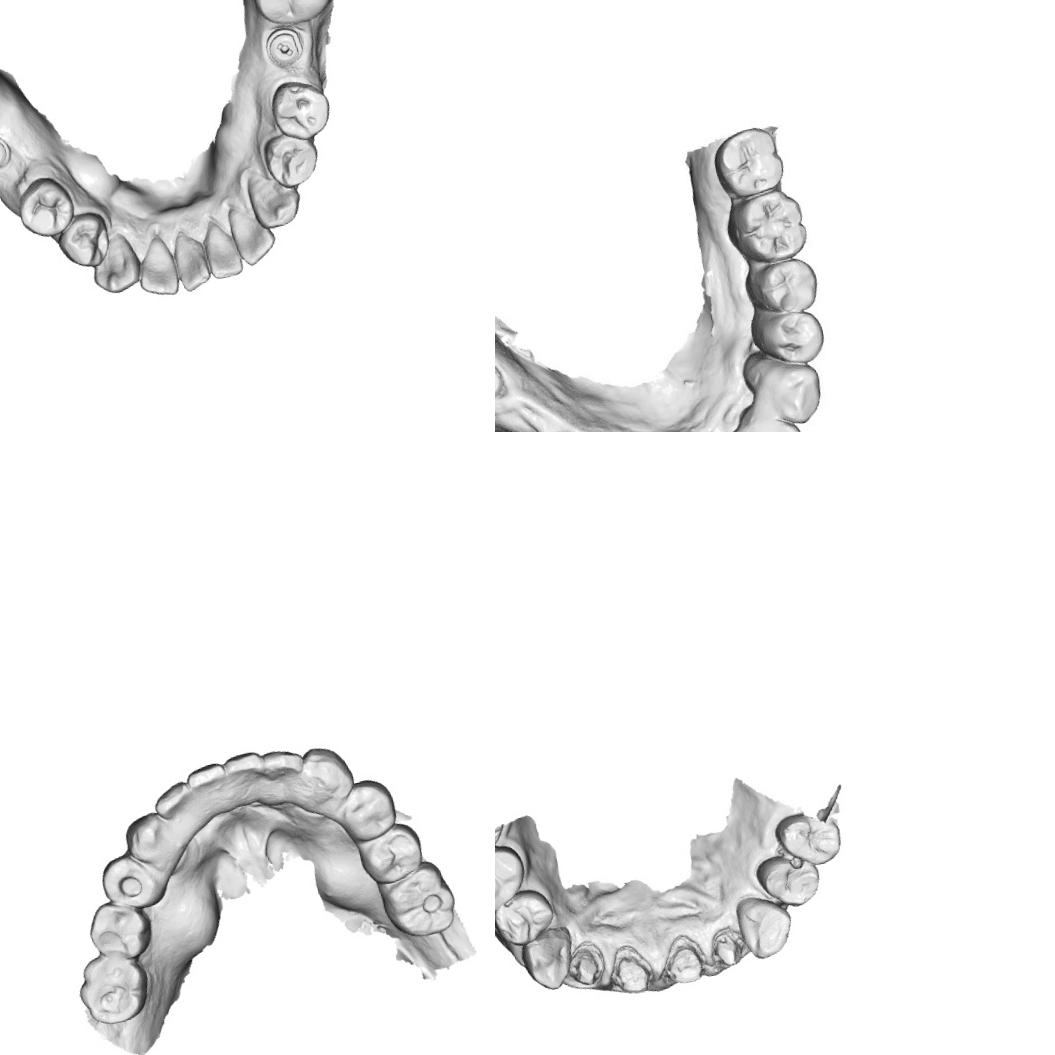canine: (752, 350, 829, 432), (732, 886, 800, 962), (516, 922, 581, 996), (243, 162, 306, 232), (84, 228, 144, 296), (298, 740, 358, 807), (119, 808, 173, 865)
crown: (657, 928, 711, 989), (603, 938, 656, 998), (561, 936, 609, 992), (706, 922, 749, 970)
implant: (0, 128, 15, 174), (495, 361, 509, 405)
implant_minus: (260, 22, 308, 72)
incisor: (224, 198, 280, 269), (130, 230, 182, 300), (166, 226, 214, 295), (197, 214, 246, 281), (184, 757, 232, 815), (260, 744, 308, 798), (222, 748, 269, 802), (148, 778, 196, 824), (745, 406, 807, 432)
molar: (375, 856, 460, 943), (725, 186, 813, 268), (706, 122, 788, 204), (72, 948, 155, 1029), (240, 0, 343, 31)
premolar: (751, 304, 832, 374), (770, 803, 848, 872), (264, 72, 336, 146), (82, 893, 156, 965), (742, 256, 822, 320), (354, 818, 427, 888), (751, 847, 825, 914), (11, 171, 79, 242), (97, 847, 164, 914), (258, 125, 324, 193), (336, 774, 400, 844), (52, 206, 115, 274), (495, 884, 559, 950), (495, 840, 531, 916)
